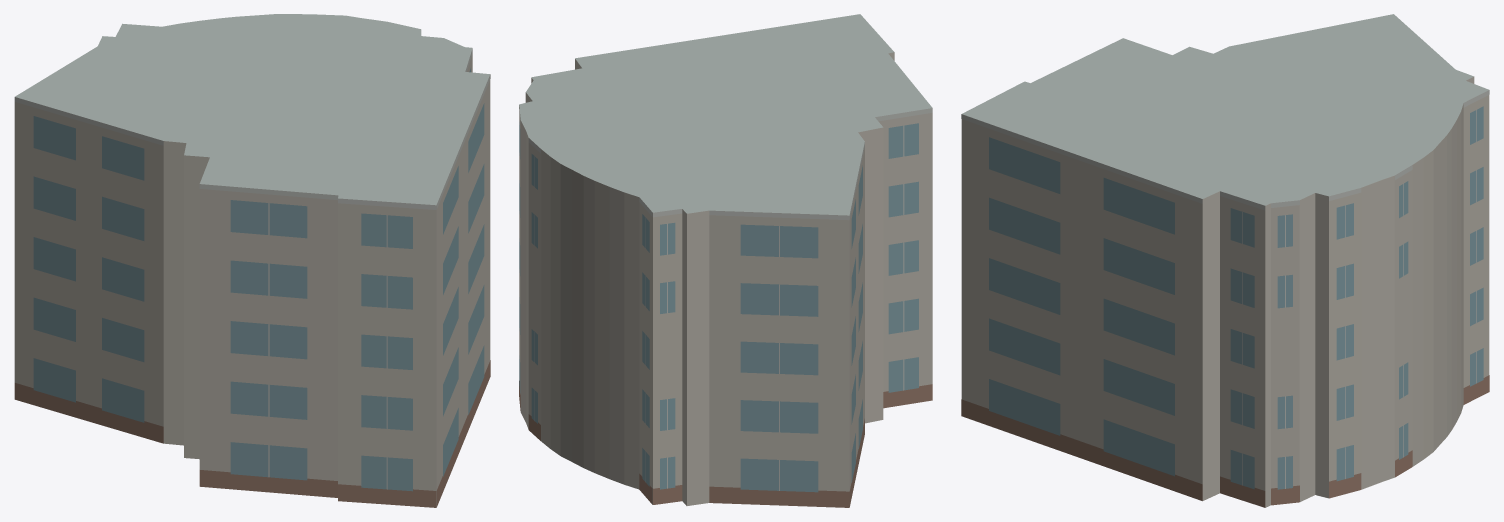
The model's file is survey-upis-32915564.glb.
The picture shows the model from 3 angles, left to right: view 1: azimuth 30°, elevation 25°; view 2: azimuth 150°, elevation 25°; view 3: azimuth 270°, elevation 25°; orthographic projection. The views are drawn at different scales.
Parts seen in each view (by area): view 1: survey-upis-32915564.tmp; view 2: survey-upis-32915564.tmp; view 3: survey-upis-32915564.tmp.
Boxes of the visible parts, left/top/right/bottom form: survey-upis-32915564.tmp: left=14, top=14, right=490, bottom=507; survey-upis-32915564.tmp: left=519, top=14, right=932, bottom=507; survey-upis-32915564.tmp: left=961, top=14, right=1489, bottom=507.
Bounding box in the file's own units: 20.77 × 15.25 × 24.16.
